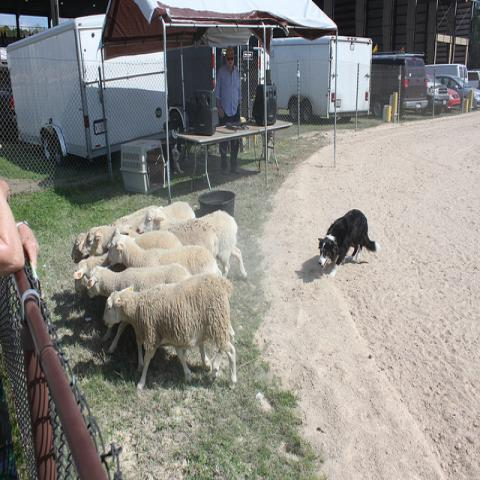car: (371, 57, 430, 118), (435, 73, 479, 108), (414, 76, 450, 116), (443, 89, 461, 112), (468, 71, 479, 89)
truck: (5, 11, 164, 166), (269, 38, 371, 126), (370, 52, 428, 118), (0, 48, 18, 138), (425, 64, 469, 84), (468, 71, 479, 91)
